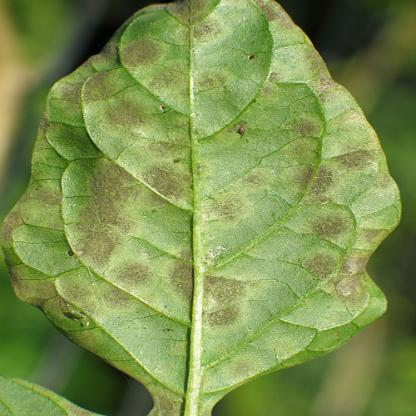tomato mold leaf: (1, 4, 409, 415)
